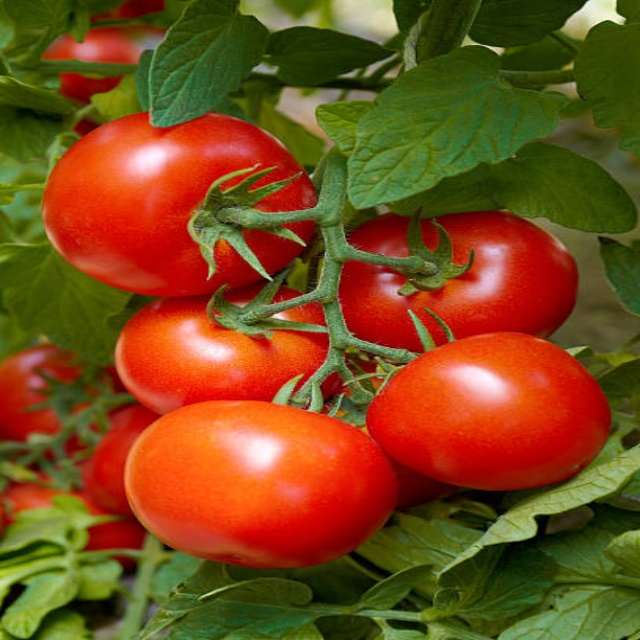tomato: (50, 106, 318, 294), (119, 405, 396, 560), (107, 278, 360, 419), (384, 334, 613, 486), (345, 210, 580, 354), (45, 29, 143, 127), (13, 351, 98, 447)
